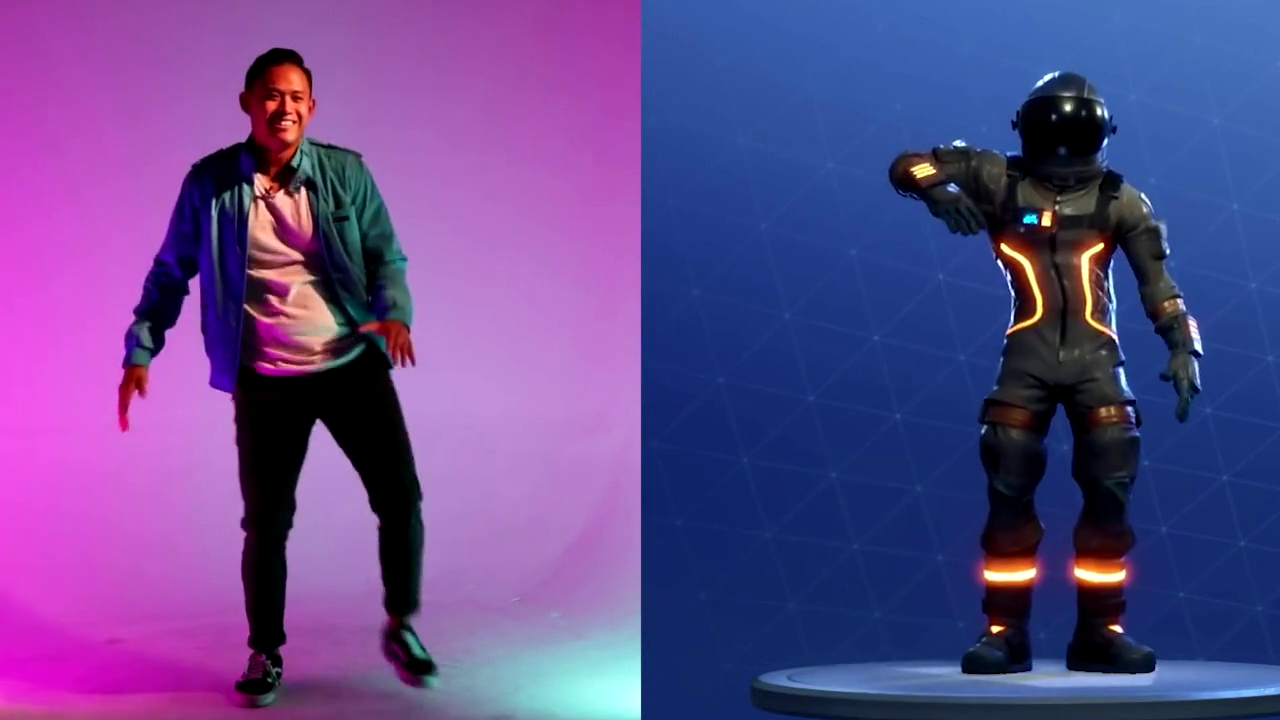Head: (226, 30, 331, 158)
Hip: (208, 354, 423, 451)
LeftAnkle: (345, 577, 450, 693)
LeftElbow: (343, 209, 429, 284)
LeftKnee: (326, 447, 439, 549)
LeftShoulder: (314, 112, 387, 220)
LeftWrist: (353, 305, 462, 385)
RightAnkle: (180, 624, 311, 705)
RightElbow: (131, 221, 218, 319)
RightKnee: (204, 464, 321, 572)
RightShoulder: (172, 136, 275, 225)
RightWrist: (81, 343, 187, 447)
Torso: (204, 154, 400, 396)
